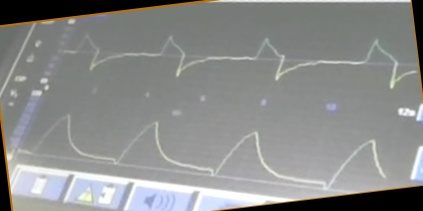Flow: (65, 30, 416, 93)
Leakage Volume: (20, 113, 386, 190)
